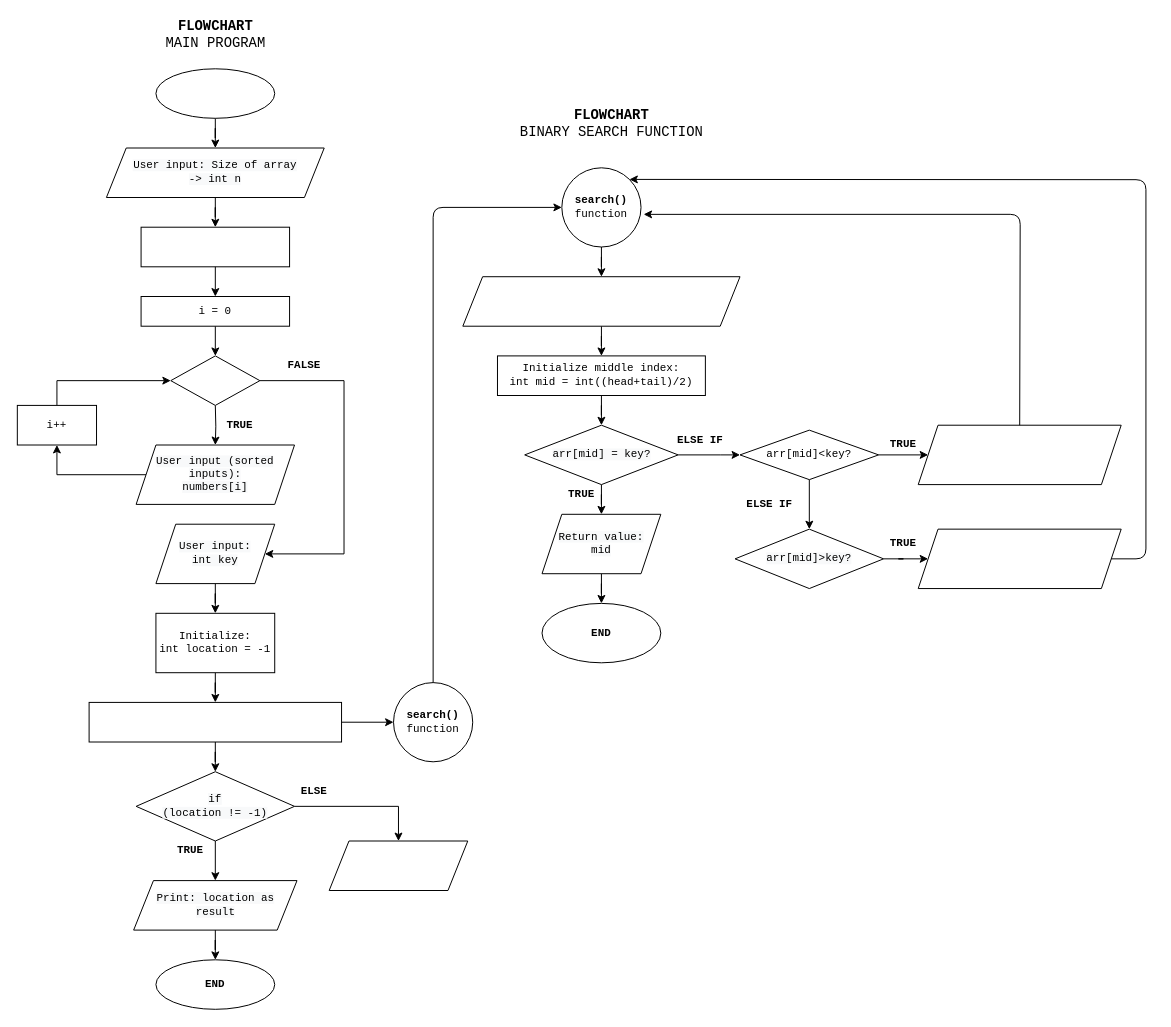
Some shapes in this 1171 by 1027 pixel diagram are drawn without their labels. Here are the shapes that lost their labels. From the top down, the centre of each, then its label:
[215,93]: START
[215,246]: Declare array: int numbers[n]
[601,301]: Parameters inputs: int arr[], int head, int tail, int key
[215,380]: i < n?
[1019,454]: Return: search(arr,mid+1,tail,key)
[1019,558]: Return: search(arr,head,mid-1,key)
[215,721]: location = search (numbers, 0 , n, key)
[398,865]: Print: Not found
